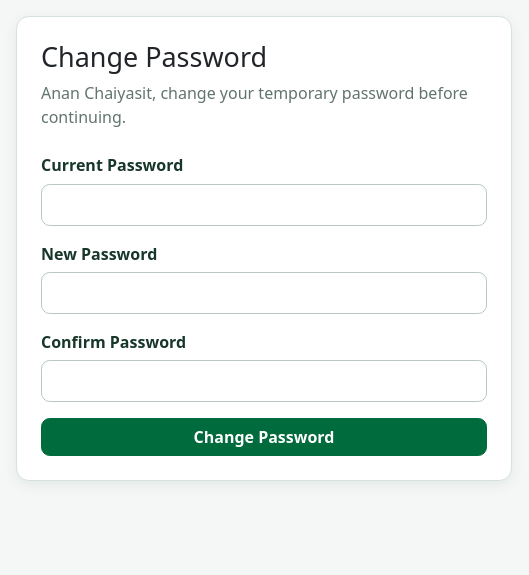
Test: ChangePassword › shows a safe error when password change fails
In the password field labelled "Current Password": (264,205) [41, 184, 487, 226], type "WrongPass123"
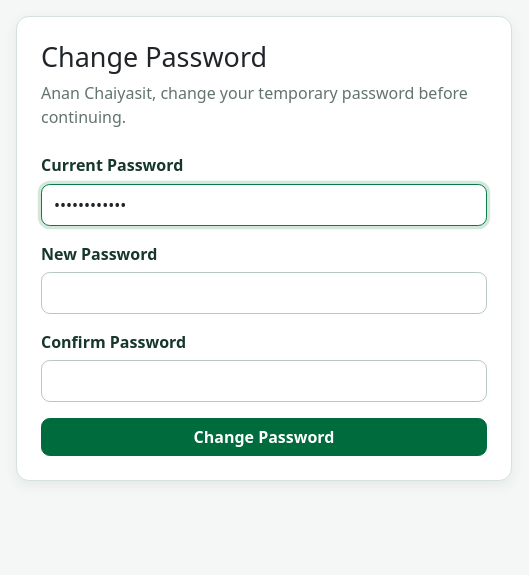
In the password field labelled "New Password": (264,293) [41, 272, 487, 314], type "NewPass123"
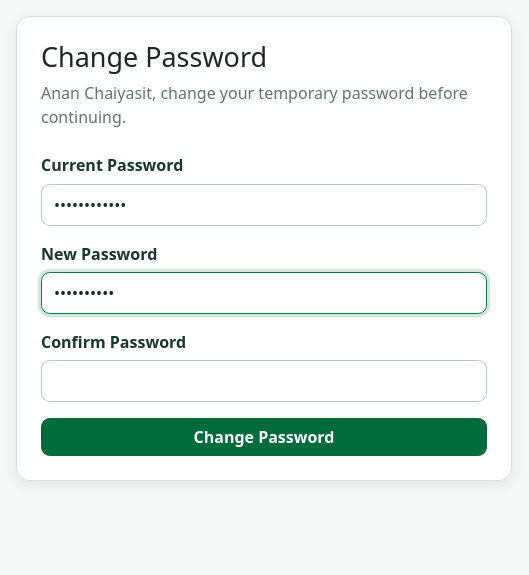
In the password field labelled "Confirm Password": (264,382) [41, 360, 487, 402], type "NewPass123"
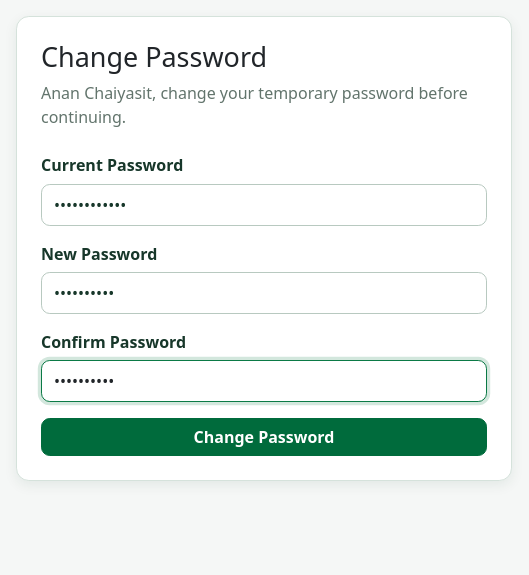
Click the button "Change Password": (264,438) [41, 418, 487, 456]
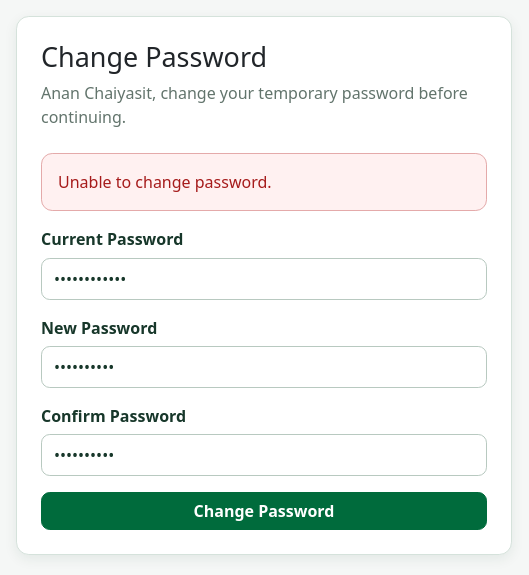
Now the text "Unable to change password." is shown, box [41, 153, 487, 211]
